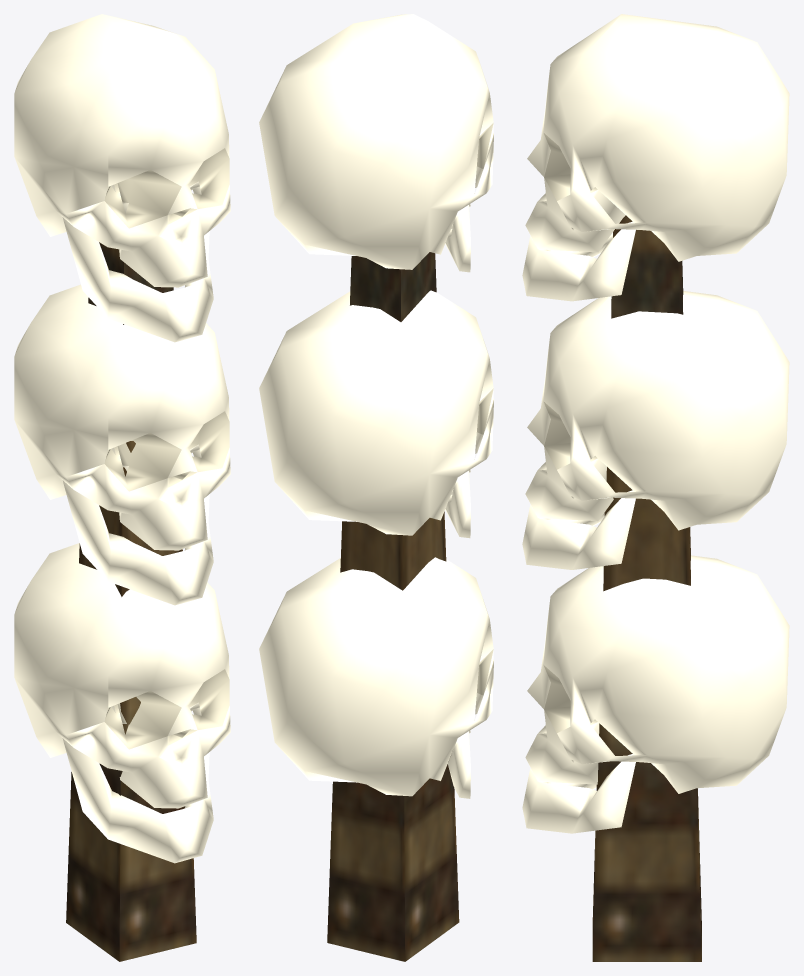
Rendered from PostWithSkulls.glb.
3 views of the same model, side by side, from view 1: azimuth 30°, elevation 25°; view 2: azimuth 150°, elevation 25°; view 3: azimuth 270°, elevation 25° (orthographic). The views are drawn at different scales.
Parts seen in each view (by area): view 1: PostWithSkulls; view 2: PostWithSkulls; view 3: PostWithSkulls.
Part boxes in pixels (<box>): PostWithSkulls: <box>14,14,230,961</box>; PostWithSkulls: <box>259,14,493,961</box>; PostWithSkulls: <box>522,14,789,961</box>.
Size of what is drawn, in the model's own units: 0.2009 by 0.9871 by 0.2605.
Materials: 1 (1 with a texture image).
